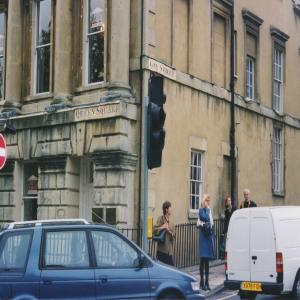Vehicle-registration-plate: (241, 282, 263, 292)
